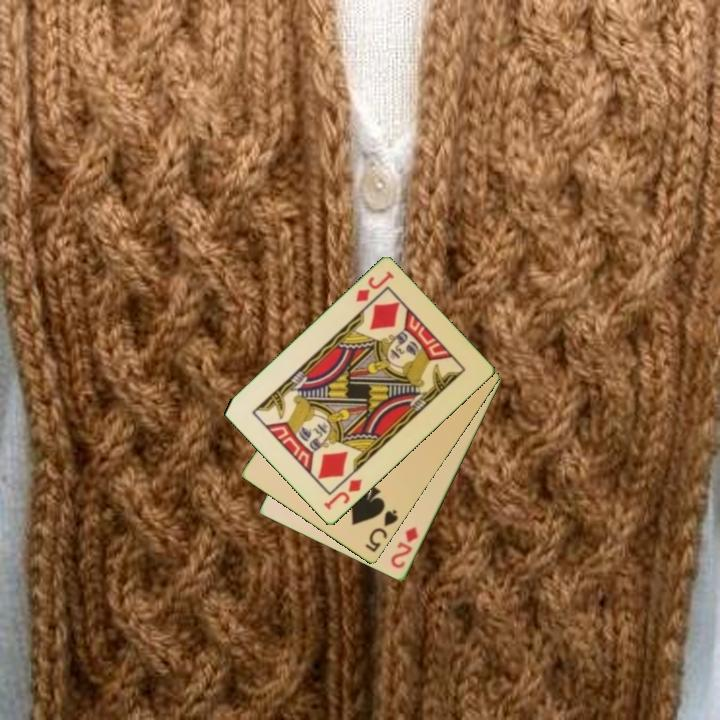2d: (387, 523, 421, 572)
5s: (362, 506, 401, 556)
Jd: (320, 475, 365, 513), (352, 268, 397, 306)
